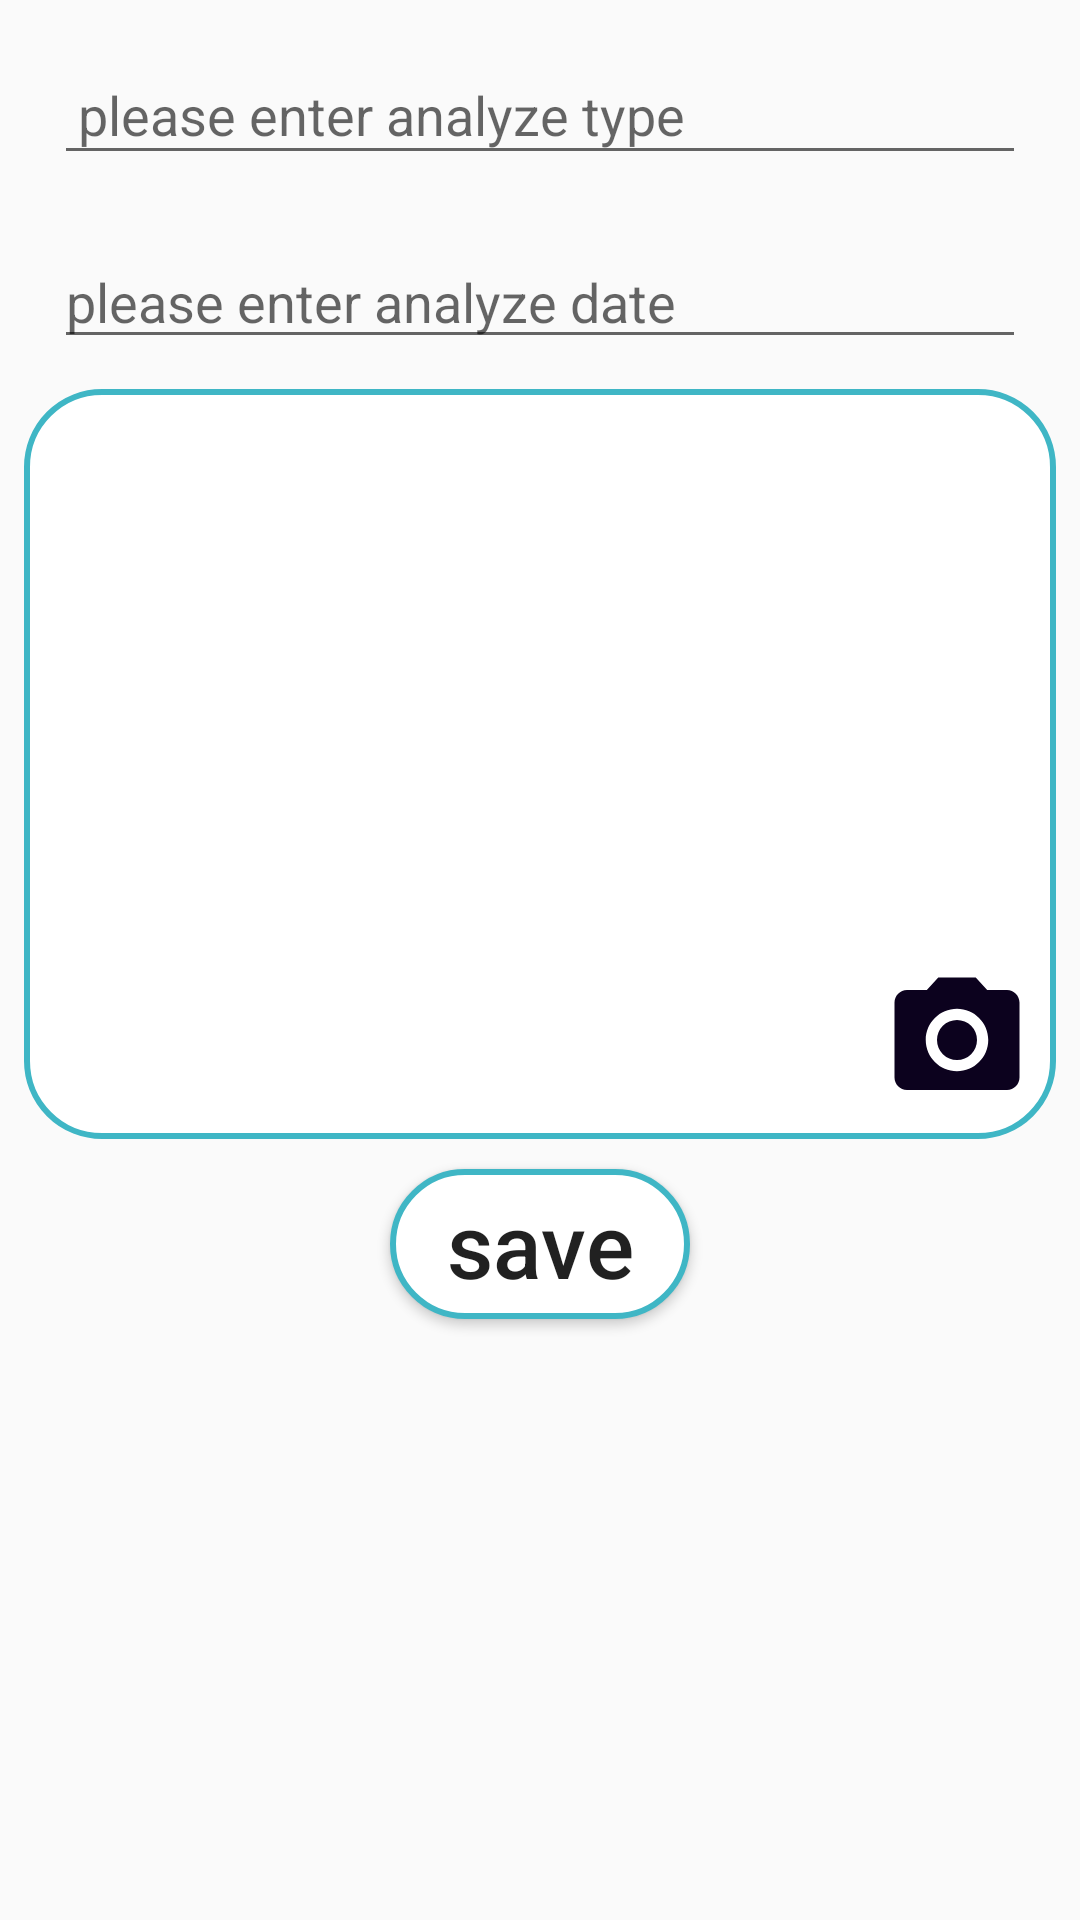

Where to tap for icons on this 1080x1920 app screen, as (x,y):
photo camera: (957,1033)
